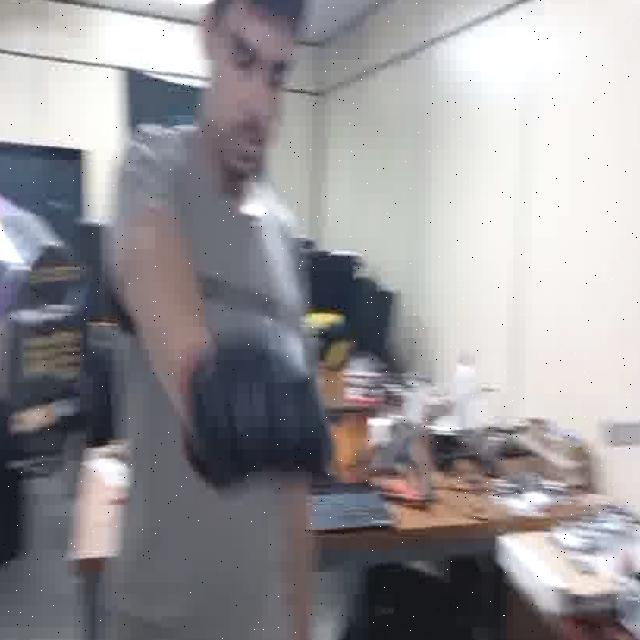Gloves: (178, 311, 334, 502)
